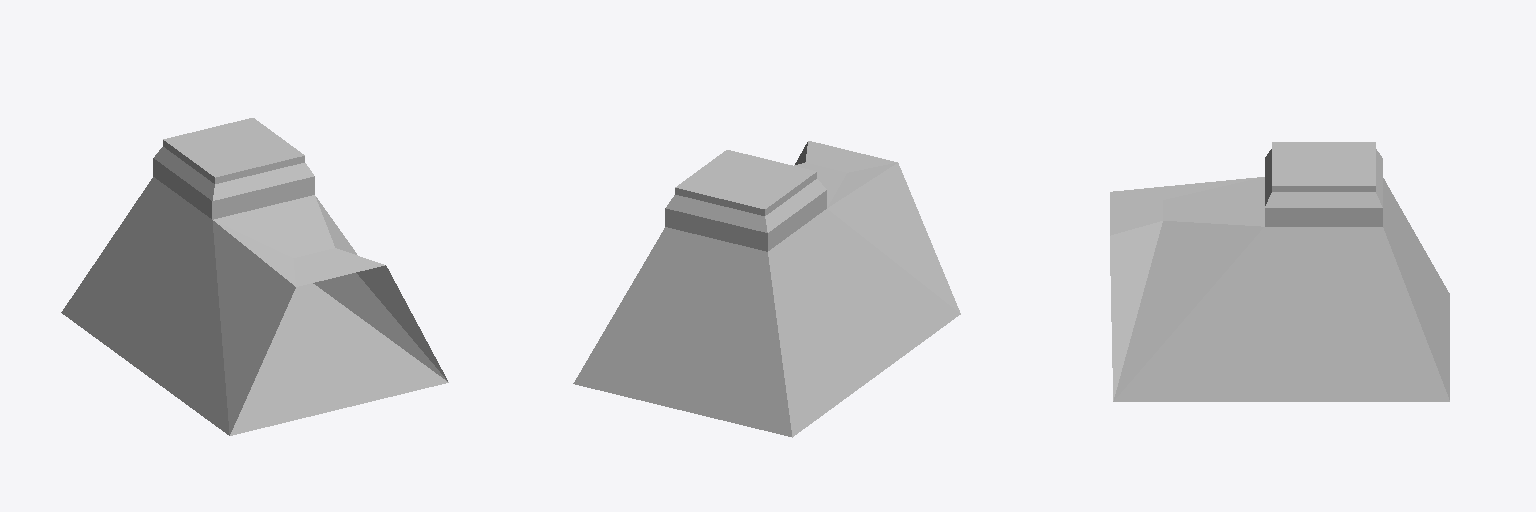
The model's file is Landeplatz.obj.
The picture shows the model from 3 angles: view 1: azimuth 30°, elevation 25°; view 2: azimuth 150°, elevation 25°; view 3: azimuth 270°, elevation 25°; orthographic projection.
Visible parts, largest first — view 1: Cube; view 2: Cube; view 3: Cube.
Boxes of the visible parts, x1,y1,x2,y2 form: Cube: [61, 118, 448, 435]; Cube: [573, 141, 960, 437]; Cube: [1110, 142, 1449, 401].
Bounding box in the file's own units: 24.31 × 19.58 × 32.71.